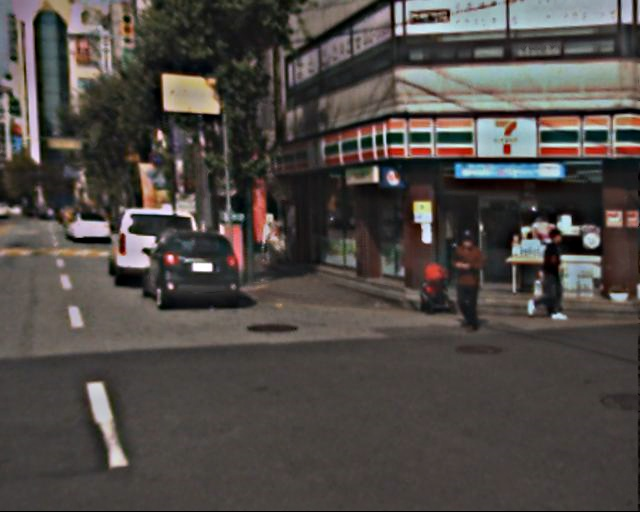person: (451, 234, 498, 331), (535, 228, 580, 325)
